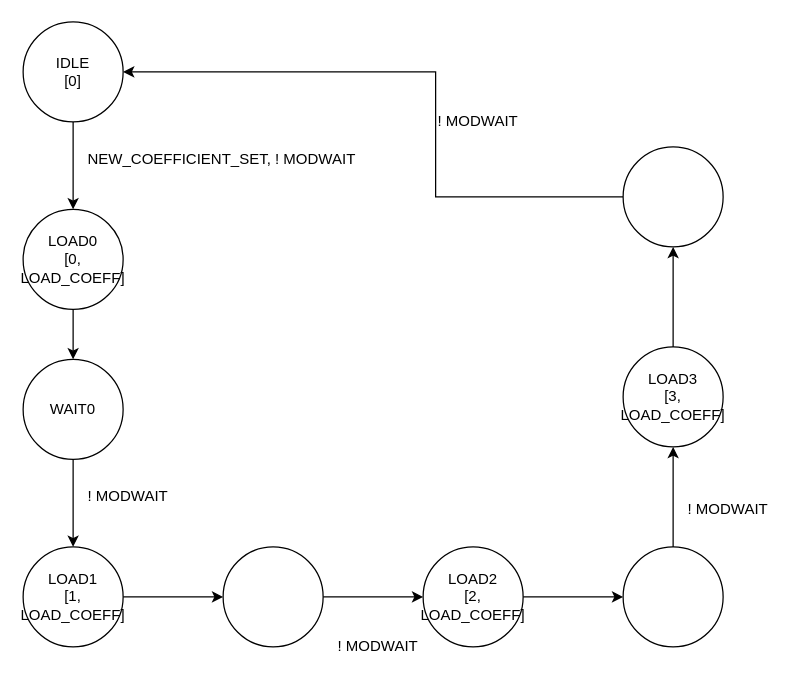
Some shapes in this 808 by 681 pixel diagram are drawn without their labels. Here are the shapes that lost their labels. From the top down, the centre of each, then its label:
pixel 672 196: WAIT3
pixel 272 596: WAIT1
pixel 672 596: WAIT2
